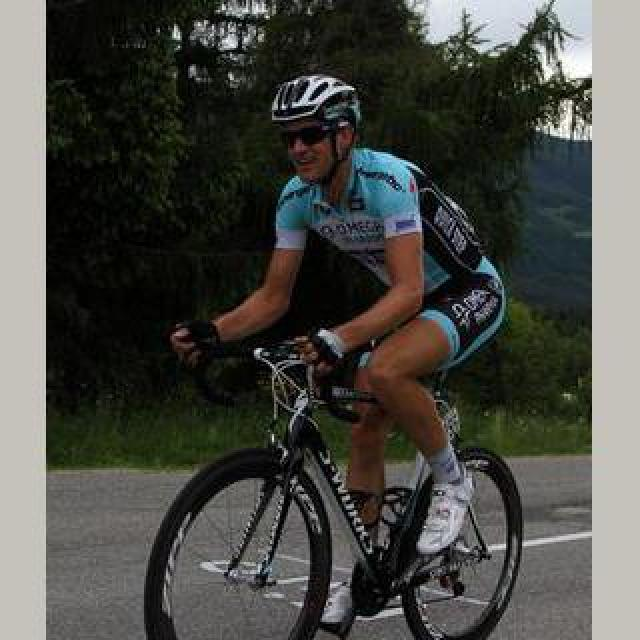MC-Bike: (164, 72, 512, 624)
Person: (149, 318, 527, 640)
